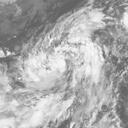cyclone: (23, 27, 91, 88)
